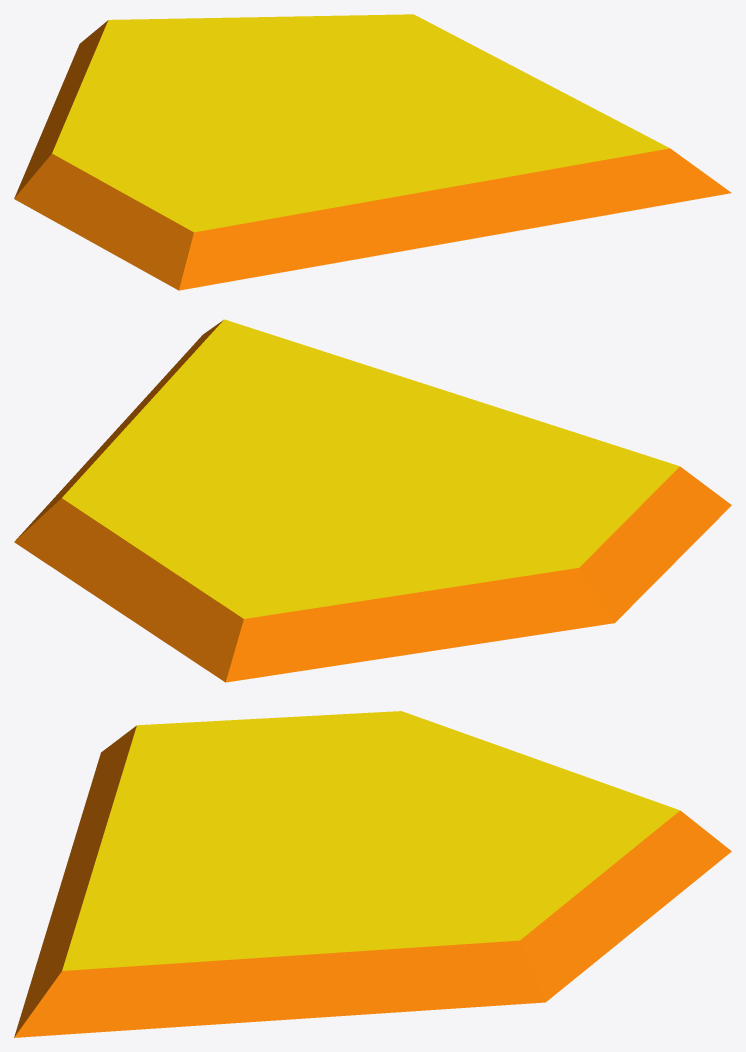
File: RockFlat6.fbx
The picture shows the model from 3 angles, top to bottom: view 1: azimuth 30°, elevation 25°; view 2: azimuth 150°, elevation 25°; view 3: azimuth 270°, elevation 25°; orthographic projection. The views are drawn at different scales.
Visible parts, largest first — view 1: RockFlat6; view 2: RockFlat6; view 3: RockFlat6.
Part boxes in pixels (x1=…): RockFlat6: x1=14, y1=14, x2=731, y2=290; RockFlat6: x1=14, y1=319, x2=731, y2=682; RockFlat6: x1=14, y1=711, x2=731, y2=1037.
Size of the model in its own units: 2.5 by 2.51 by 0.1714.
